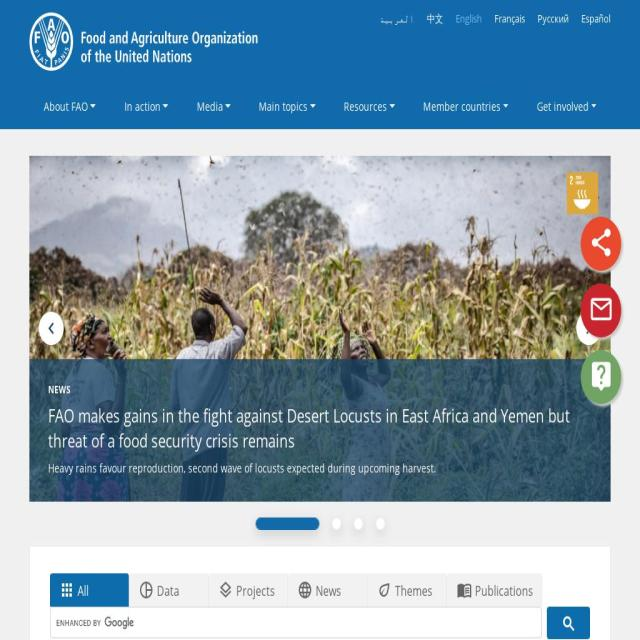button: (423, 83, 509, 129), (536, 83, 597, 129), (258, 83, 316, 129), (43, 83, 96, 129), (344, 83, 395, 129), (124, 83, 168, 129), (196, 83, 231, 129), (547, 607, 590, 639), (59, 580, 120, 601), (38, 312, 64, 346), (576, 312, 602, 346)
field: (57, 612, 514, 634)
heading: (48, 402, 570, 452), (48, 384, 592, 396)
image: (29, 12, 258, 71), (567, 173, 598, 214), (255, 518, 318, 529), (562, 613, 574, 634)
link: (588, 292, 614, 326), (588, 359, 614, 393), (380, 13, 414, 25), (494, 13, 525, 25), (538, 13, 568, 25), (581, 13, 611, 25), (59, 580, 75, 601), (218, 580, 234, 601), (456, 580, 472, 601), (139, 580, 154, 601), (298, 580, 313, 601), (377, 580, 392, 601), (456, 13, 482, 25), (427, 13, 443, 25)
text: (48, 459, 592, 477), (581, 218, 621, 268), (474, 582, 534, 600), (236, 582, 276, 600), (395, 582, 433, 600), (316, 582, 342, 600), (42, 317, 60, 341), (580, 317, 598, 341), (157, 582, 180, 600), (78, 582, 90, 600), (539, 608, 541, 638)
